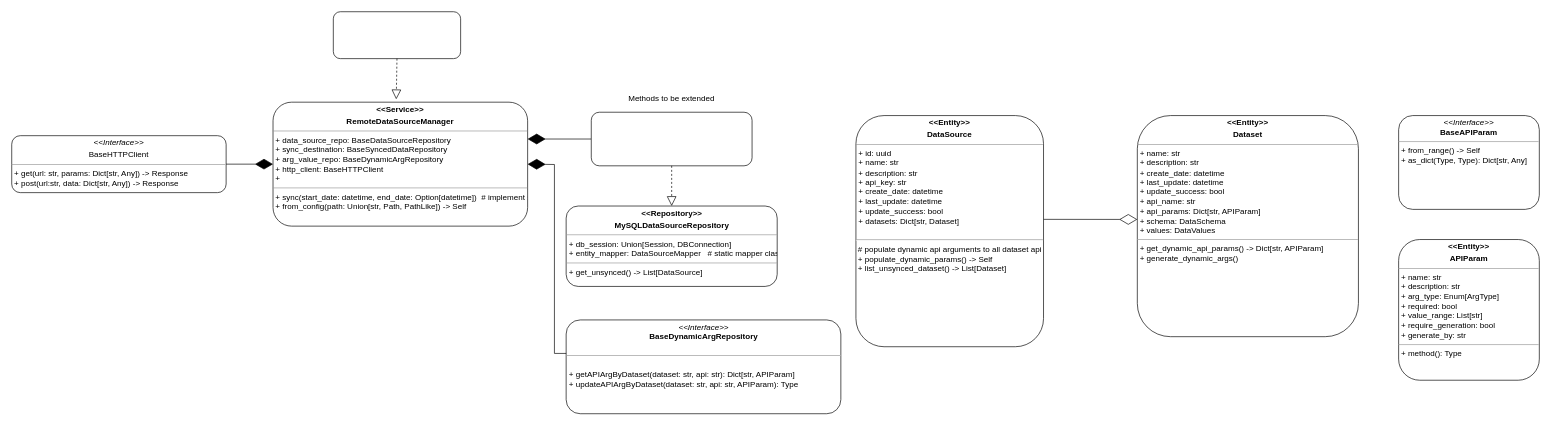
Image size: 1551x425. Some labels were removed from this diagram. The shapes that lost their labels are listed below. From the top down, each one's box as (x1, y1, x2, y2) in pixels, then its label:
(333, 11, 461, 59): <<Interface>> BaseDataSourceManager + sync()
(591, 112, 752, 166): <<Interface>> BaseDataSourceRepository + get_unsynced() -> List[DataSource]
